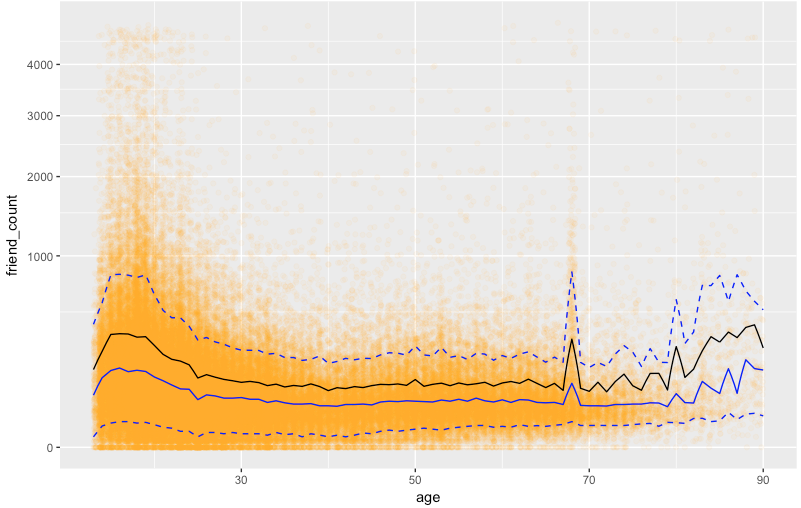

The dashboard page shown, as its layout file describes it:
{"tool":"tableau","page":{"name":"Dashboard 2","canvas":[1000,1000],"units":"permille","ordinal":1},"visuals":[{"type":"worksheet","title":"Sheet 1","mark":"Line","rows":["Rank","Rank"],"cols":["Year"],"box":[0,0,993.9,1000]}]}

Visuals, with their boxes on the dashboard's canvas, which has no fixed pixel size, in thousandths of its width and height (x1, y1, x2, y2). These are canvas units, not pixel positions in the 801x508 screenshot, which may show the page scaled, cropped or inside an application window:
"Sheet 1" worksheet (Line marks): <region>0, 0, 994, 1000</region>
